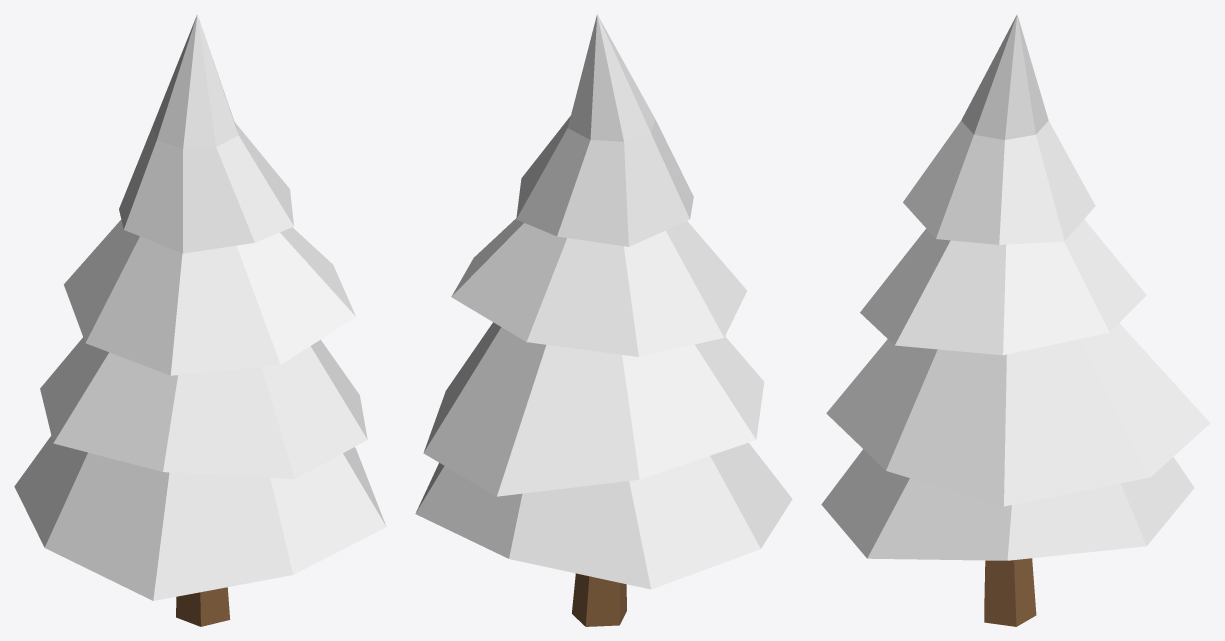
Rendered from Fir_Tree_OneSided_m_Snow_03_LOD.fbx.
3 views of the same model, side by side, from view 1: azimuth 30°, elevation 25°; view 2: azimuth 150°, elevation 25°; view 3: azimuth 270°, elevation 25° (orthographic).
Parts seen in each view (by area): view 1: Fir_Tree_OneSided_m_Snow_03_LOD0; view 2: Fir_Tree_OneSided_m_Snow_03_LOD0; view 3: Fir_Tree_OneSided_m_Snow_03_LOD0.
Boxes of the visible parts, bbox=[...] form: Fir_Tree_OneSided_m_Snow_03_LOD0: bbox=[14, 14, 386, 626]; Fir_Tree_OneSided_m_Snow_03_LOD0: bbox=[415, 14, 792, 626]; Fir_Tree_OneSided_m_Snow_03_LOD0: bbox=[821, 14, 1210, 626].
Size of what is drawn, in the model's own units: 384 by 701 by 412.
